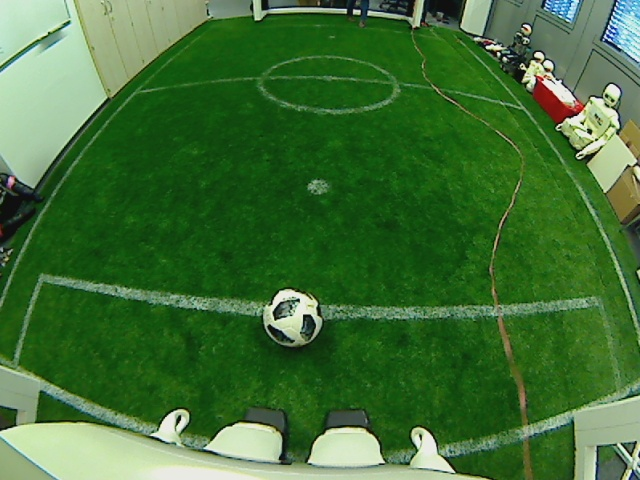ball: (259, 286, 325, 350)
